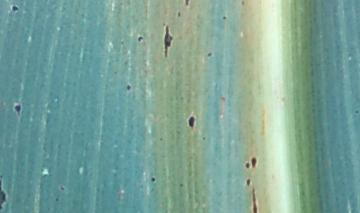tarspot: (162, 23, 174, 61), (250, 185, 259, 213), (186, 113, 197, 131), (1, 175, 6, 213), (13, 101, 22, 117), (249, 154, 257, 170), (11, 4, 20, 14), (135, 34, 145, 43), (175, 9, 184, 19), (57, 183, 66, 192), (149, 174, 157, 184), (182, 1, 191, 9), (204, 49, 213, 57), (53, 195, 61, 204), (244, 161, 251, 171), (125, 82, 132, 92), (244, 178, 251, 186), (200, 134, 207, 141), (220, 14, 226, 22), (178, 180, 184, 188), (240, 1, 246, 7), (158, 135, 164, 141)
